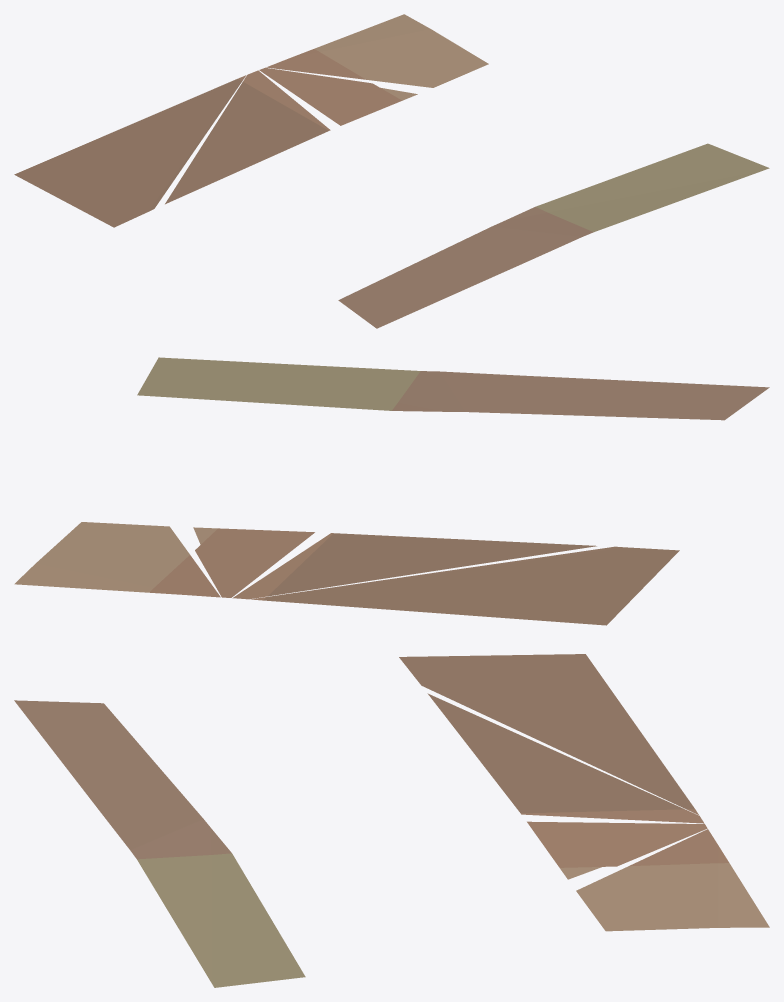
File: farm_15_8_soil.glb
3 renders of one model, top to bottom at view 1: azimuth 30°, elevation 25°; view 2: azimuth 150°, elevation 25°; view 3: azimuth 270°, elevation 25°, orthographic. The views are drawn at different scales.
Parts seen in each view (by area): view 1: geometry_0; view 2: geometry_0; view 3: geometry_0.
Part boxes in pixels (x1,y1,x2,y2): geometry_0: (14, 14, 769, 328); geometry_0: (14, 357, 769, 625); geometry_0: (14, 654, 769, 987).
Size of the model in its own units: 119 by 4.86 by 119.
